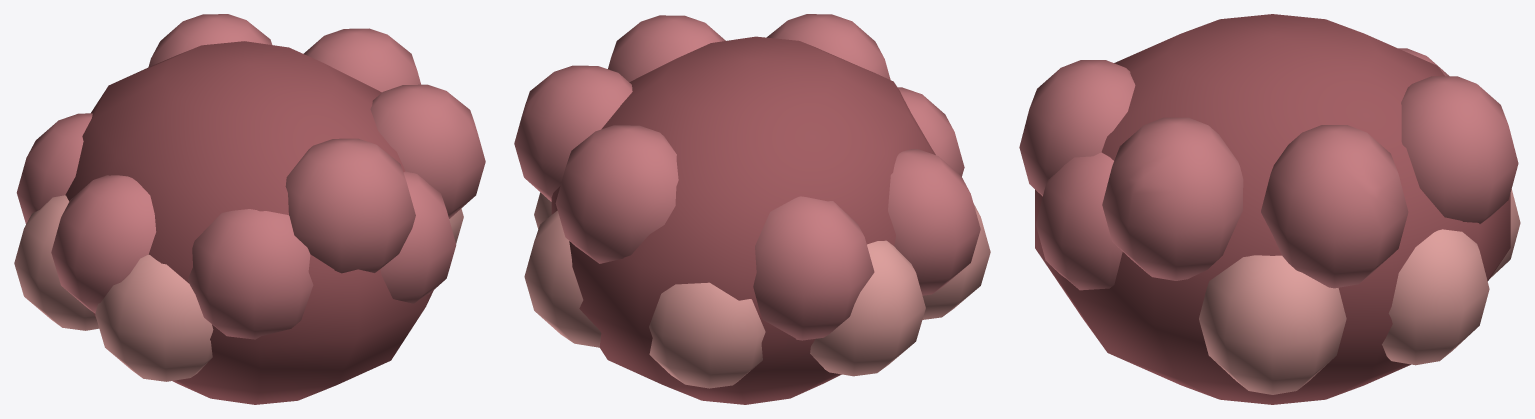
The model's file is bulbfreak_body.obj.
3 views of the same model, side by side, from view 1: azimuth 30°, elevation 25°; view 2: azimuth 150°, elevation 25°; view 3: azimuth 270°, elevation 25° (orthographic). The views are drawn at different scales.
Parts seen in each view (by area): view 1: source_component_000, source_component_003, source_component_008, source_component_013, source_component_005, source_component_006, source_component_011, source_component_010, source_component_009, source_component_002, source_component_012; view 2: source_component_000, source_component_002, source_component_012, source_component_007, source_component_005, source_component_009, source_component_010, source_component_004, source_component_006, source_component_003, source_component_013, source_component_008; view 3: source_component_000, source_component_009, source_component_006, source_component_001, source_component_012, source_component_004, source_component_003, source_component_011, source_component_007.
Part boxes in pixels (box(x1,y1,x2,y2)): source_component_000: box(65, 41, 433, 404); source_component_003: box(285, 138, 415, 273); source_component_008: box(188, 209, 313, 339); source_component_013: box(95, 254, 213, 381); source_component_005: box(51, 175, 156, 313); source_component_006: box(370, 84, 485, 218); source_component_011: box(380, 171, 456, 303); source_component_010: box(14, 195, 99, 330); source_component_009: box(303, 28, 420, 92); source_component_002: box(16, 113, 92, 223); source_component_012: box(148, 14, 272, 67); source_component_000: box(551, 36, 935, 404); source_component_002: box(753, 196, 874, 340); source_component_012: box(555, 125, 678, 263); source_component_007: box(649, 282, 765, 388); source_component_005: box(888, 149, 980, 295); source_component_009: box(514, 65, 632, 201); source_component_010: box(810, 240, 925, 376); source_component_004: box(524, 210, 601, 347); source_component_006: box(608, 15, 725, 82); source_component_003: box(766, 14, 890, 79); source_component_013: box(922, 203, 990, 319); source_component_008: box(897, 87, 964, 176); source_component_000: box(1035, 14, 1510, 404); source_component_009: box(1261, 125, 1408, 288); source_component_006: box(1102, 117, 1243, 280); source_component_001: box(1199, 255, 1346, 394); source_component_012: box(1401, 76, 1518, 223); source_component_004: box(1382, 229, 1489, 365); source_component_003: box(1019, 60, 1135, 196); source_component_011: box(1036, 152, 1122, 290); source_component_007: box(1490, 189, 1520, 278).
Bounding box in the file's own units: 1.45 × 1.07 × 1.4.
